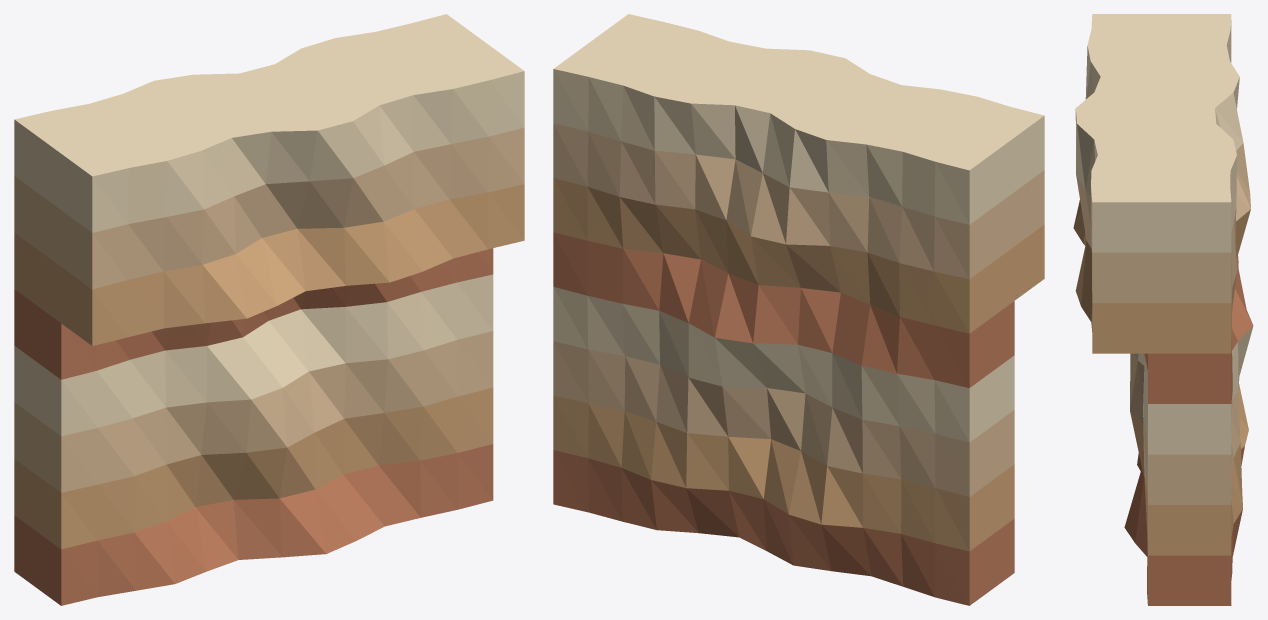
The model's file is desert-canyons-and-oases-undercut-wall-958cafb4__20910.glb.
3 renders of one model, left to right at view 1: azimuth 30°, elevation 25°; view 2: azimuth 150°, elevation 25°; view 3: azimuth 270°, elevation 25°, orthographic. The views are drawn at different scales.
Parts seen in each view (by area): view 1: undercut-wall; view 2: undercut-wall; view 3: undercut-wall.
Boxes of the visible parts, x1=… form: undercut-wall: x1=14, y1=14, x2=524, y2=605; undercut-wall: x1=553, y1=14, x2=1044, y2=605; undercut-wall: x1=1073, y1=14, x2=1253, y2=605.
Size of the model in its own units: 4 by 4 by 1.62.
